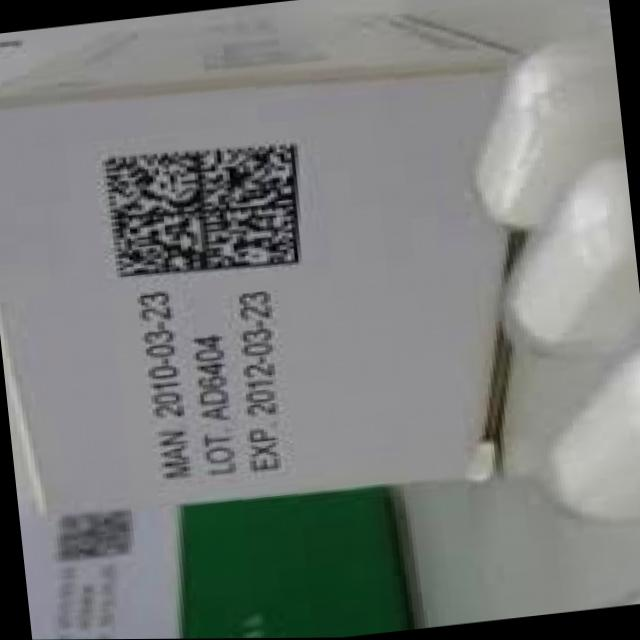datamatrix: (88, 127, 325, 291)
